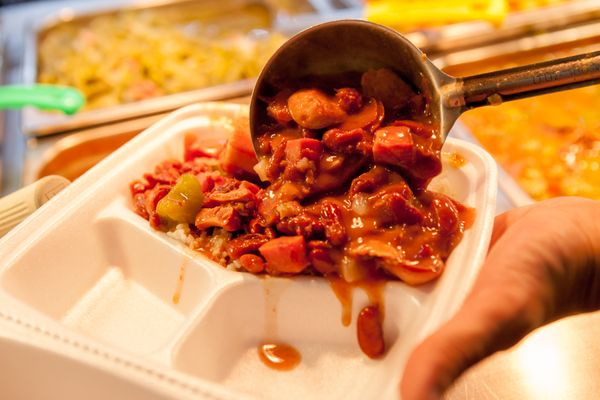salad: (0, 174, 71, 241)
